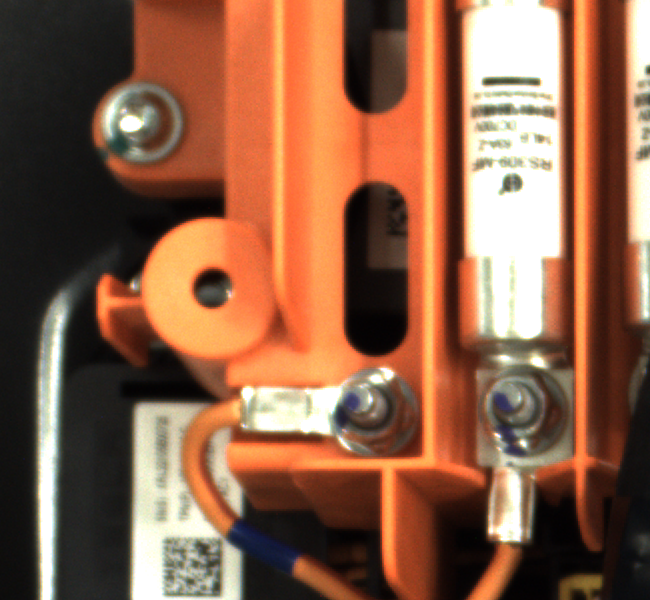screw_m: (93, 80, 204, 174)
screw_s: (482, 366, 590, 461), (320, 365, 418, 461)
